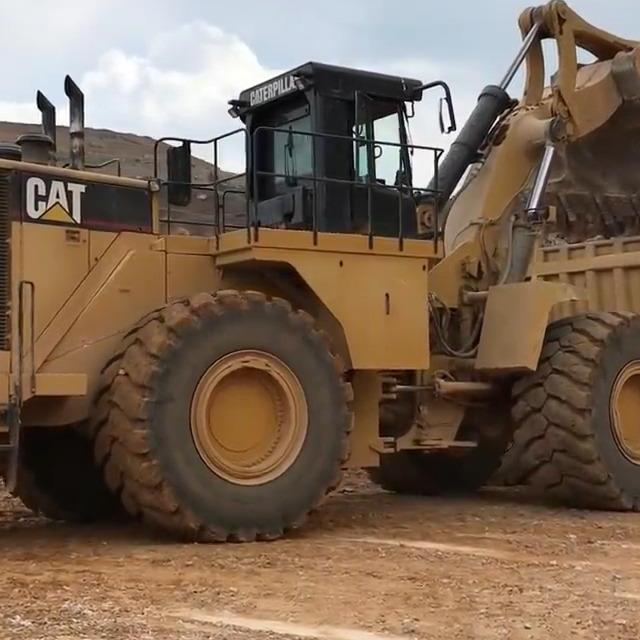dump truck: (519, 210, 640, 508)
wheel loader: (0, 0, 640, 546)
